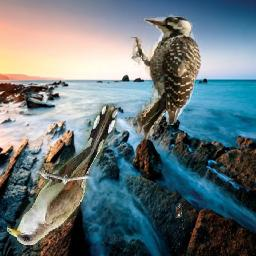Cuckoo: (7, 105, 117, 246), (170, 204, 182, 219)
Woodpecker: (129, 12, 201, 140)
